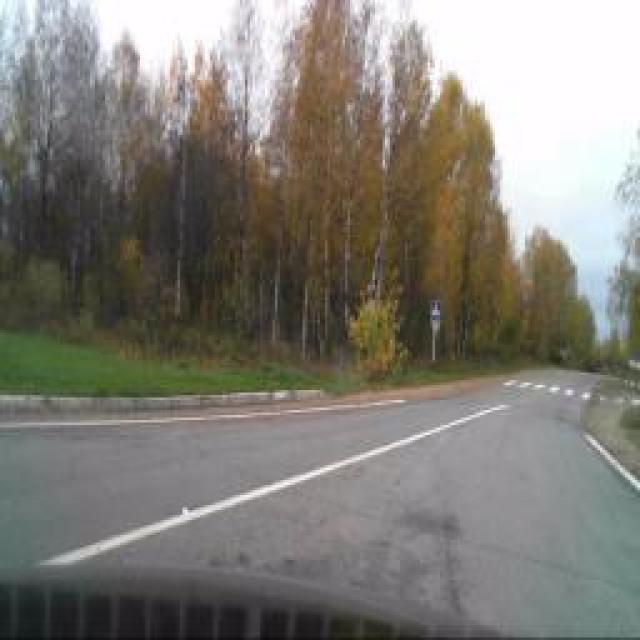sign: (431, 300, 441, 320)
